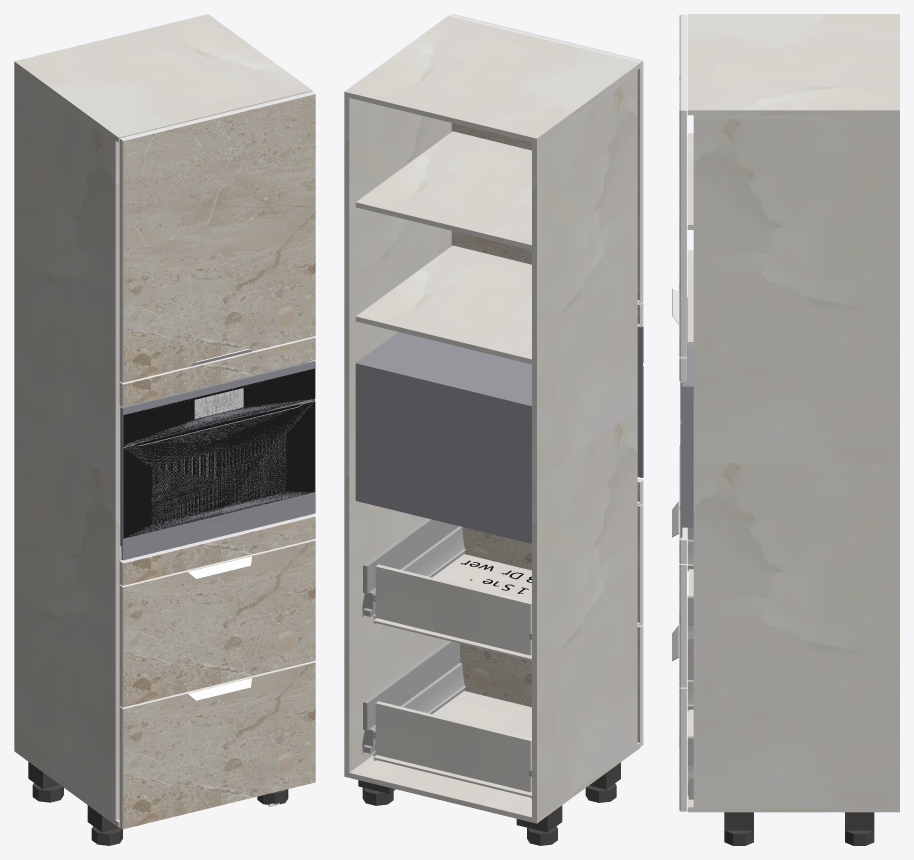
Rendered from TC1S2EHSFCM1HS_RH (H2040xW600XD560).glb.
3 renders of one model, left to right at view 1: azimuth 30°, elevation 25°; view 2: azimuth 150°, elevation 25°; view 3: azimuth 270°, elevation 25°, orthographic. The views are drawn at different scales.
Size of what is drawn, in the model's own units: 0.6 by 2.14 by 0.6.
Materials: 10 (2 with a texture image).
